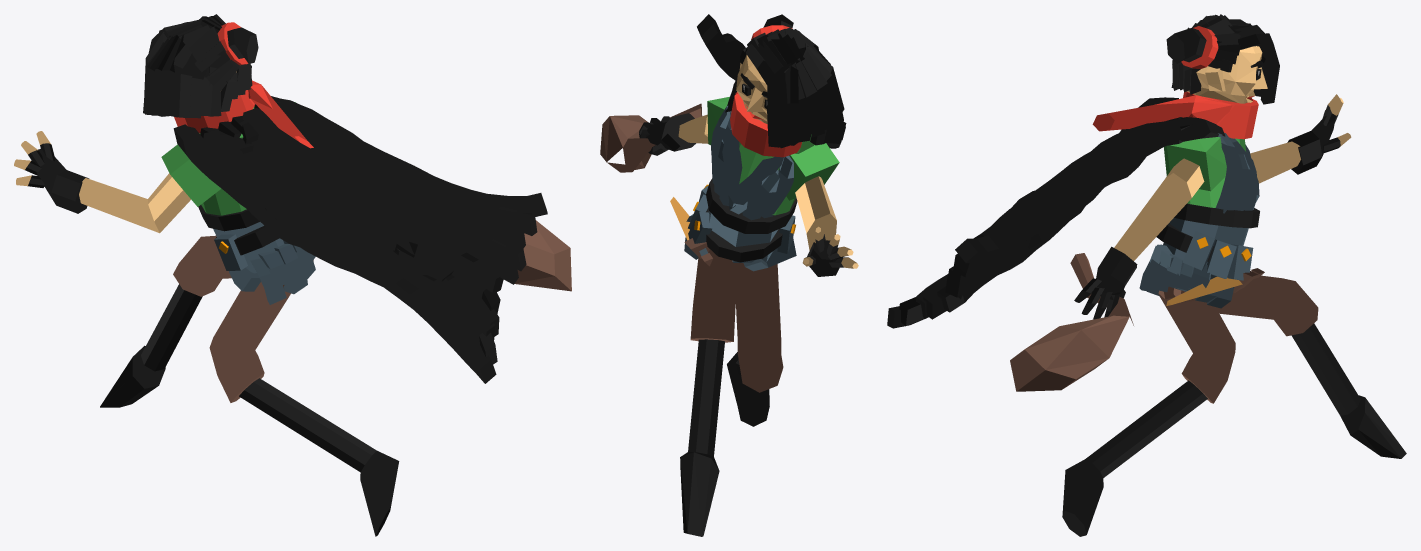
The model's file is scene_b8nkGoflO4.glb.
3 views of the same model, side by side, from view 1: azimuth 30°, elevation 25°; view 2: azimuth 150°, elevation 25°; view 3: azimuth 270°, elevation 25° (orthographic). The views are drawn at different scales.
Visible parts, largest first — view 1: Node; view 2: Node; view 3: Node.
Part boxes in pixels (x1,y1,x2,y2): Node: [14, 14, 571, 536]; Node: [600, 14, 858, 536]; Node: [887, 14, 1406, 536].
Size of the model in its own units: 2.02 by 2.3 by 2.3.
